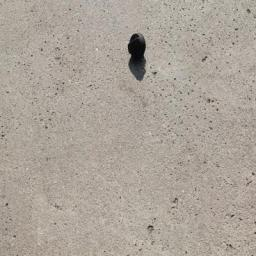FOD: (126, 31, 153, 84)
